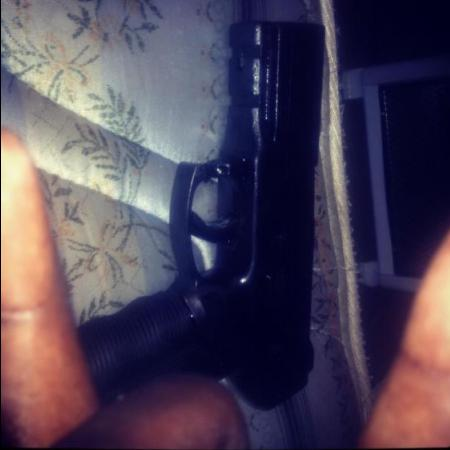Pistol: (72, 20, 326, 417)
